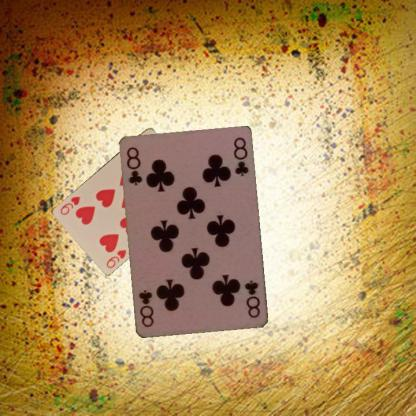8c: (242, 278, 262, 321), (124, 145, 144, 188)
9h: (104, 247, 128, 269)
